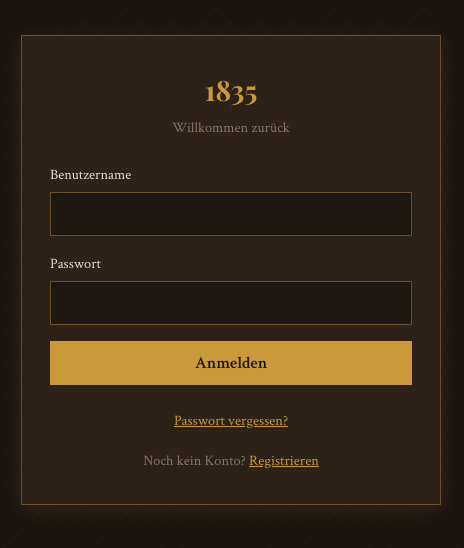
Test: LoginPage › zeigt Fehlermeldung bei leeren Feldern
Click the button "Anmelden" at coordinates (231, 363), box x1=50 y1=341 x2=412 y2=385
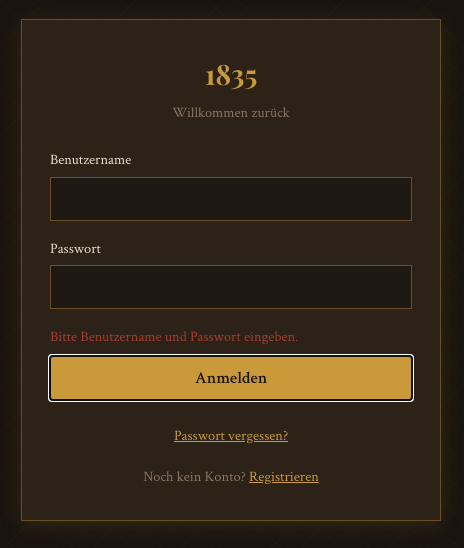
Result: the text "Bitte Benutzername und Passwort eingeben." is shown at x1=50 y1=327 x2=298 y2=346
